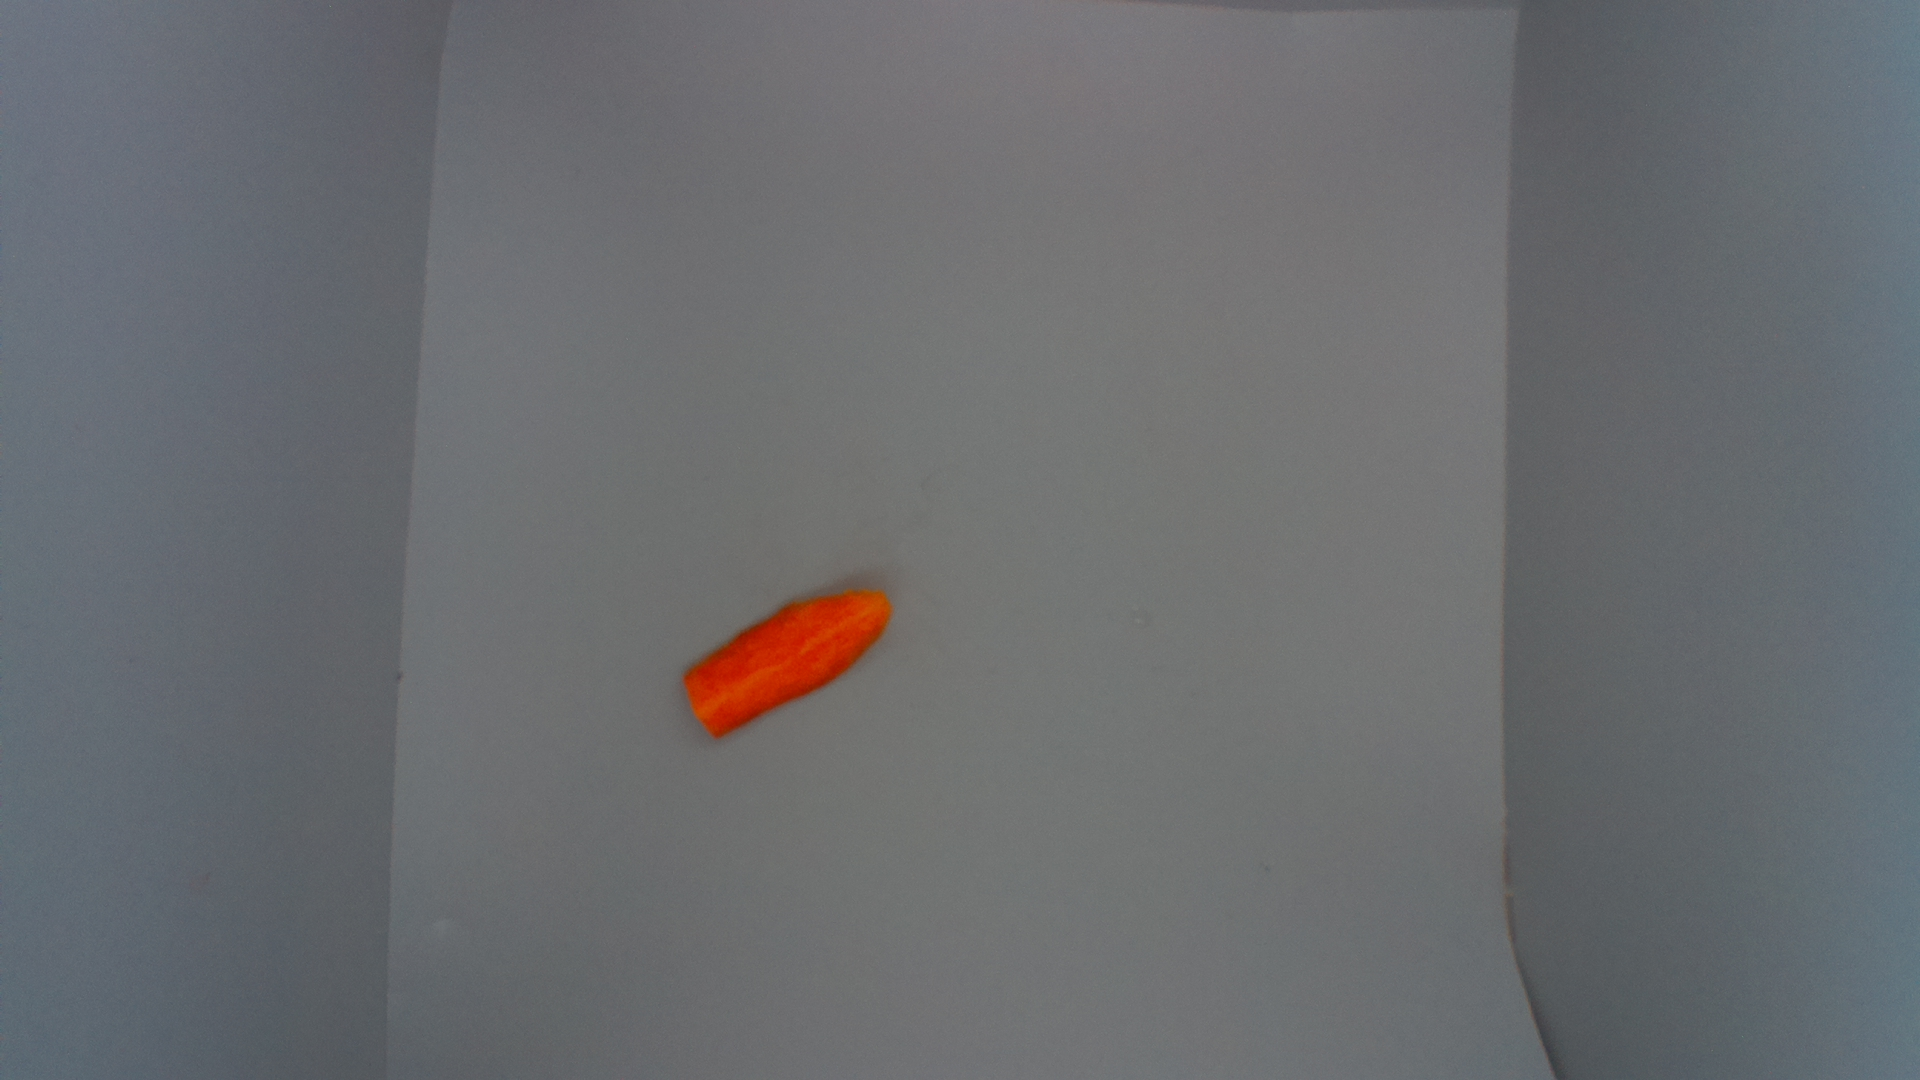carrot: (676, 587, 893, 742)
